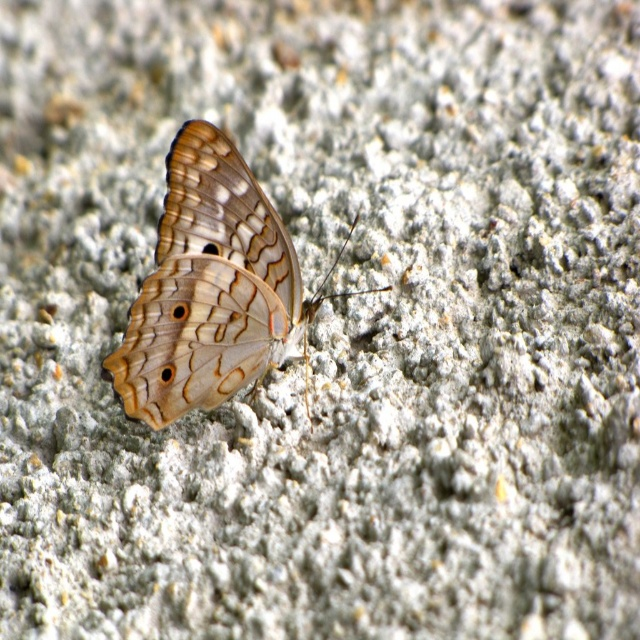Butterfly: (104, 102, 372, 441)
